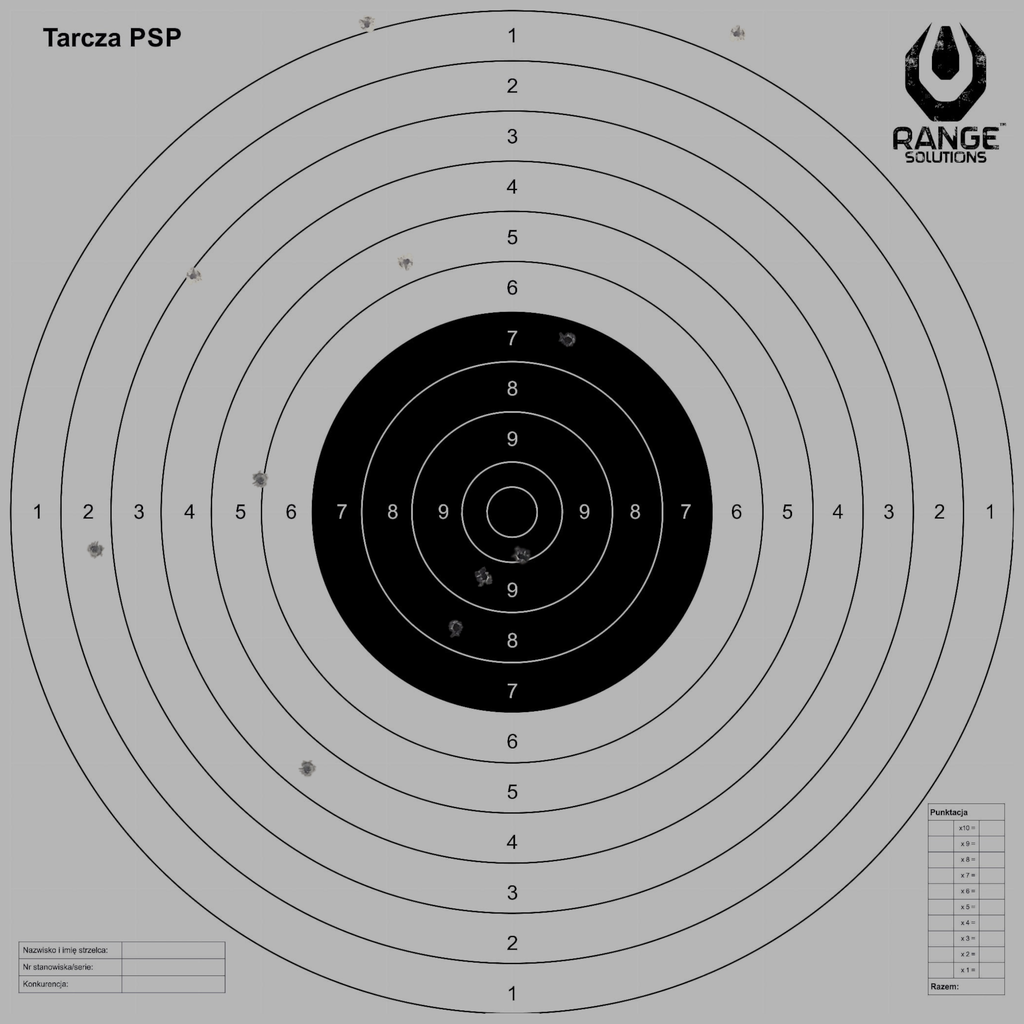0 punktow: (728, 24, 746, 43)
1 punkt: (358, 15, 376, 33)
10 punktow: (512, 547, 530, 565)
2 punkty: (86, 540, 104, 559)
3 punkty: (184, 267, 202, 285)
4 punkty: (298, 760, 316, 778)
5 punktow: (397, 253, 416, 271)
6 punktow: (251, 471, 270, 490)
7 punktow: (559, 331, 577, 349)
8 punktow: (447, 619, 465, 637)
9 punktow: (475, 567, 493, 586)
